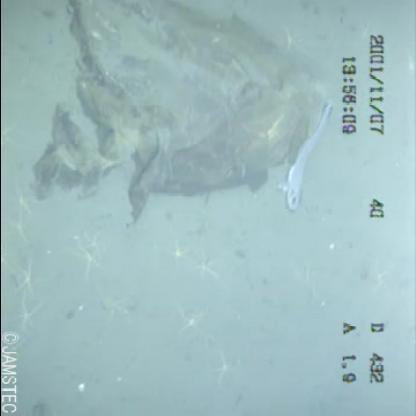Bio: (268, 88, 342, 232)
Rác: (32, 1, 320, 236)
